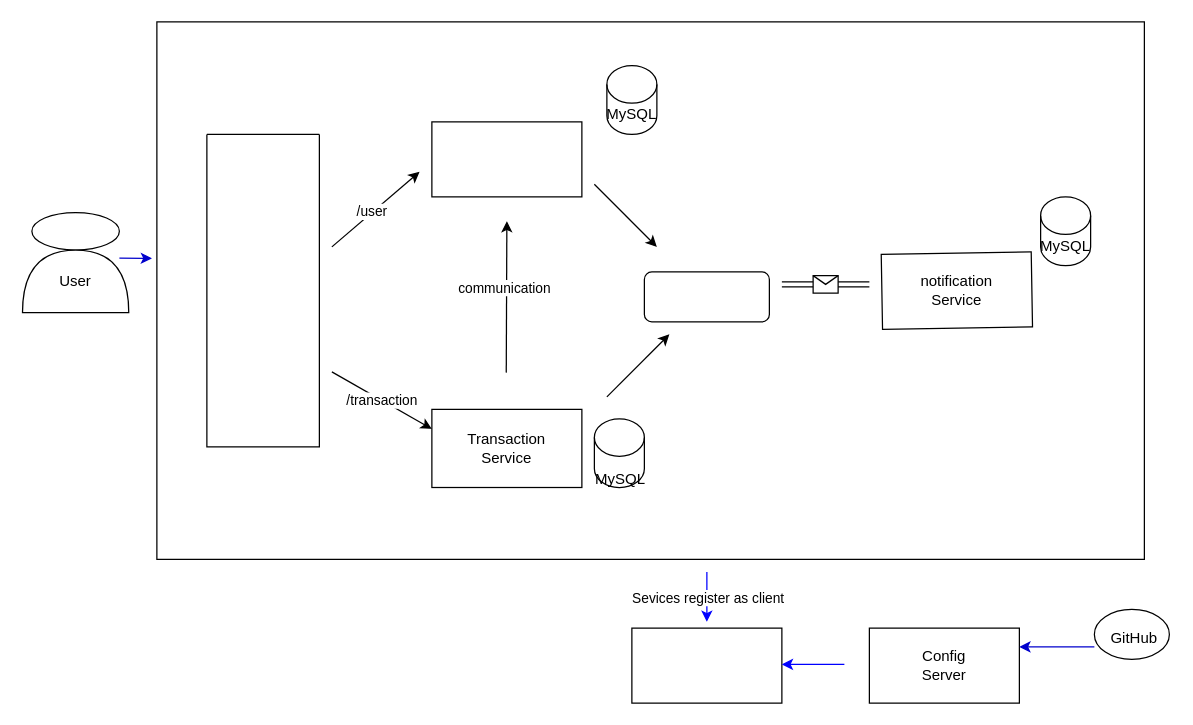
Some shapes in this 1193 by 725 pixel diagram are drawn without their labels. Each missing label, with the box of its shape:
Api Gateway: (206, 133, 319, 447)
Eureka Server: (631, 627, 782, 703)
RabbitMq: (643, 271, 769, 322)
User Service: (431, 121, 582, 197)
